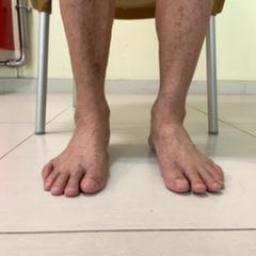Front View -Both Feet-: (24, 74, 243, 220)
